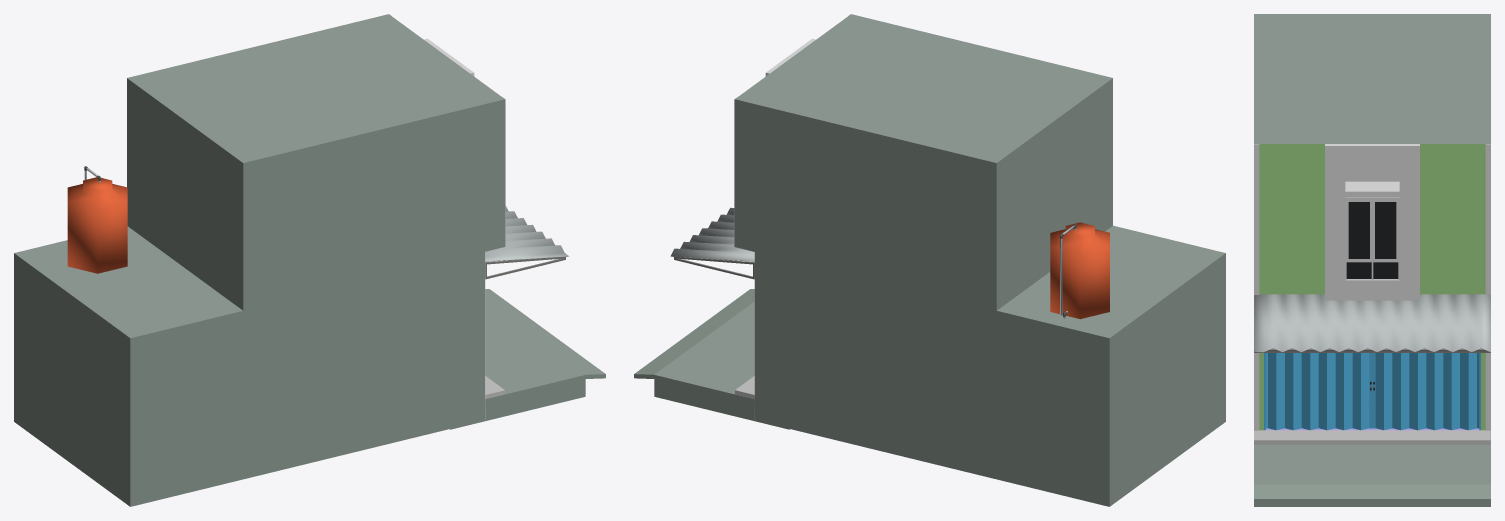
Rendered from Closed_STore_Type_2_2.fbx.
3 views of the same model, side by side, from view 1: azimuth 30°, elevation 25°; view 2: azimuth 150°, elevation 25°; view 3: azimuth 270°, elevation 25° (orthographic).
Visible parts, largest first — view 1: Closed_STore_Type_2_2_LOD0; view 2: Closed_STore_Type_2_2_LOD0; view 3: Closed_STore_Type_2_2_LOD0.
Part boxes in pixels (x1,y1,x2,y2): Closed_STore_Type_2_2_LOD0: [14, 14, 605, 506]; Closed_STore_Type_2_2_LOD0: [634, 14, 1225, 506]; Closed_STore_Type_2_2_LOD0: [1254, 14, 1490, 506].
Size of what is drawn, in the model's own units: 1180 by 752 by 500.
